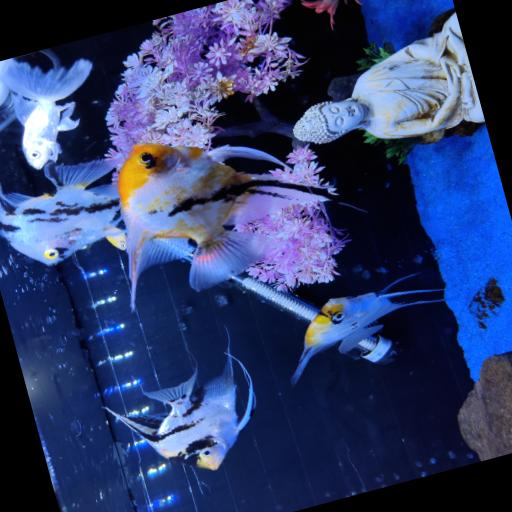Fish: (118, 142, 328, 306), (105, 353, 254, 469), (291, 275, 445, 383), (0, 159, 125, 264), (0, 58, 91, 168), (106, 233, 126, 249)
